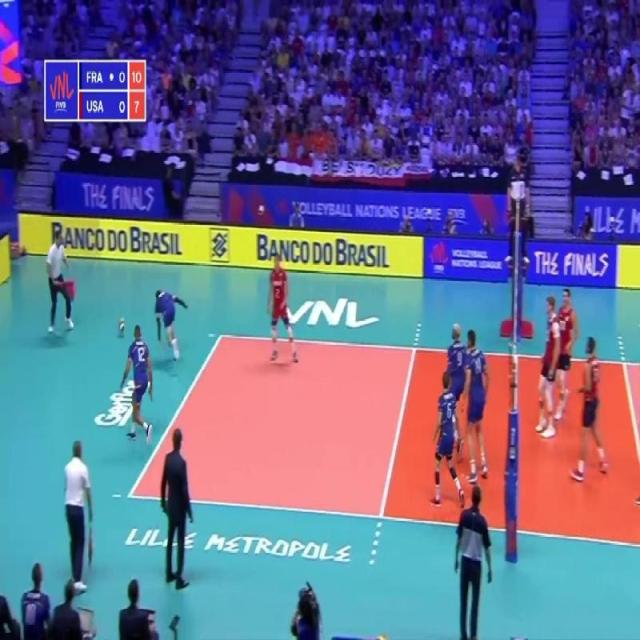volleyball: (118, 317, 125, 332)
